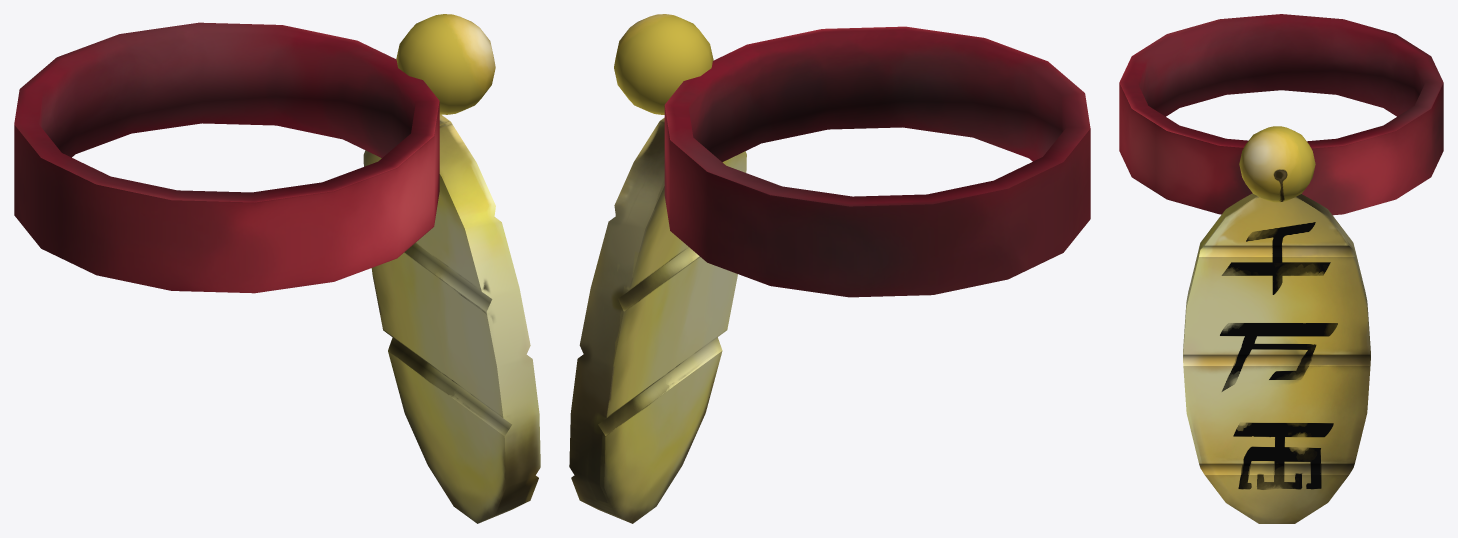
File: pickup_placa.fbx
The picture shows the model from 3 angles, left to right: view 1: azimuth 30°, elevation 25°; view 2: azimuth 150°, elevation 25°; view 3: azimuth 270°, elevation 25°; orthographic projection. The views are drawn at different scales.
Visible parts, largest first — view 1: Collar, Chapa, Cascabel; view 2: Collar, Chapa, Cascabel; view 3: Chapa, Collar, Cascabel.
Boxes of the visible parts, box(x1,y1,x2,y2) form: Collar: box(14, 22, 439, 293); Chapa: box(363, 114, 540, 523); Cascabel: box(396, 14, 495, 114); Collar: box(664, 26, 1090, 297); Chapa: box(569, 117, 746, 523); Cascabel: box(614, 14, 713, 114); Chapa: box(1183, 193, 1370, 523); Collar: box(1119, 14, 1443, 215); Cascabel: box(1239, 126, 1315, 202).
Bounding box in the file's own units: 73.01 × 76.59 × 59.44.
